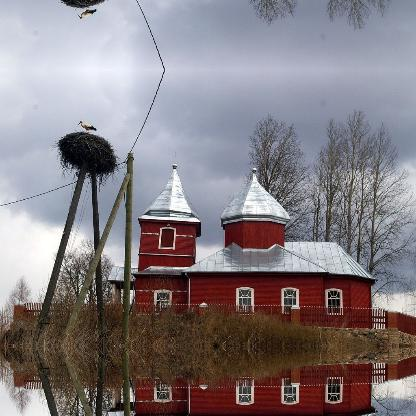Bird: (78, 118, 96, 132), (78, 6, 96, 20)
